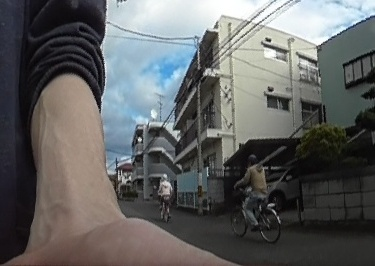person: (236, 153, 268, 228), (156, 171, 174, 211)
